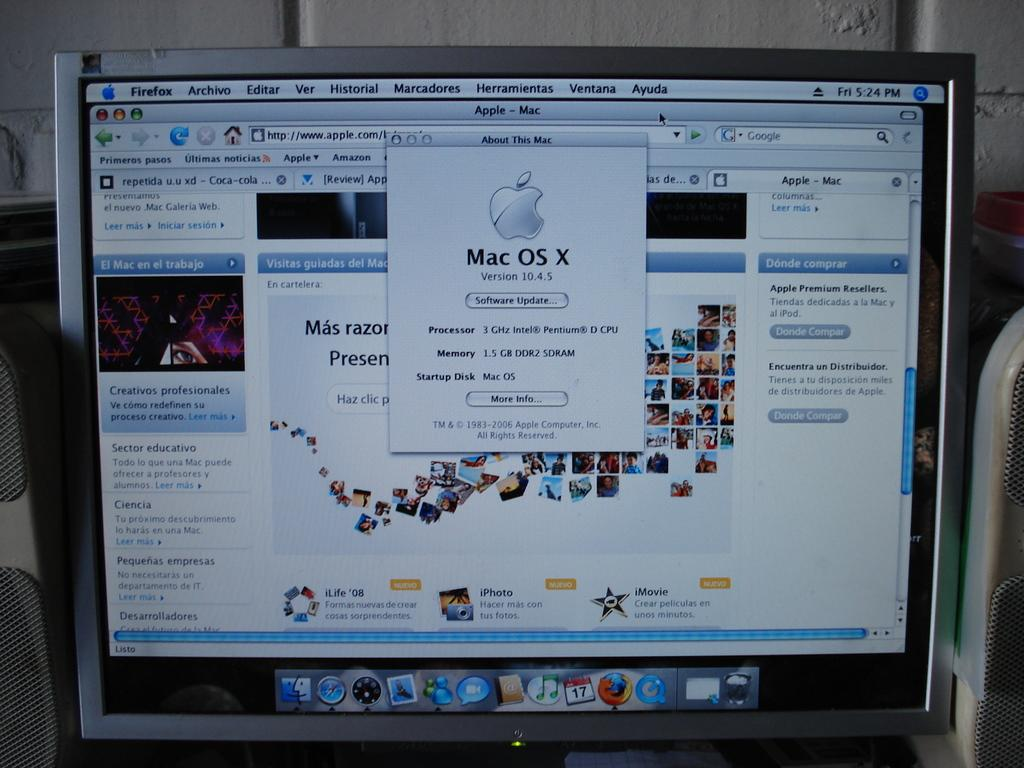Laptop: (8, 54, 1012, 767)
